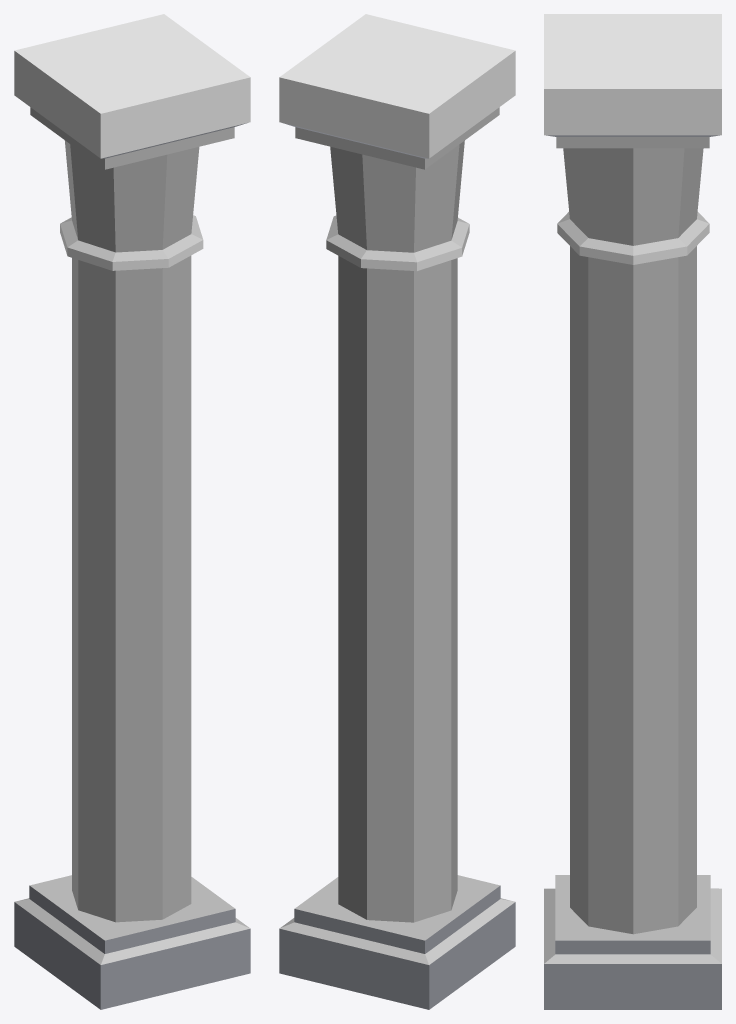
The model's file is TraditionalPillar.glb.
The picture shows the model from 3 angles, left to right: view 1: azimuth 30°, elevation 25°; view 2: azimuth 150°, elevation 25°; view 3: azimuth 270°, elevation 25°; orthographic projection. The views are drawn at different scales.
Parts seen in each view (by area): view 1: traditional_pillar; view 2: traditional_pillar; view 3: traditional_pillar.
Boxes of the visible parts, left/top/right/bottom form: traditional_pillar: left=14, top=14, right=250, bottom=1009; traditional_pillar: left=279, top=14, right=515, bottom=1009; traditional_pillar: left=544, top=14, right=721, bottom=1009.
Size of what is drawn, in the model's own units: 0.7 by 4 by 0.7.
1 material, 1 textured.
